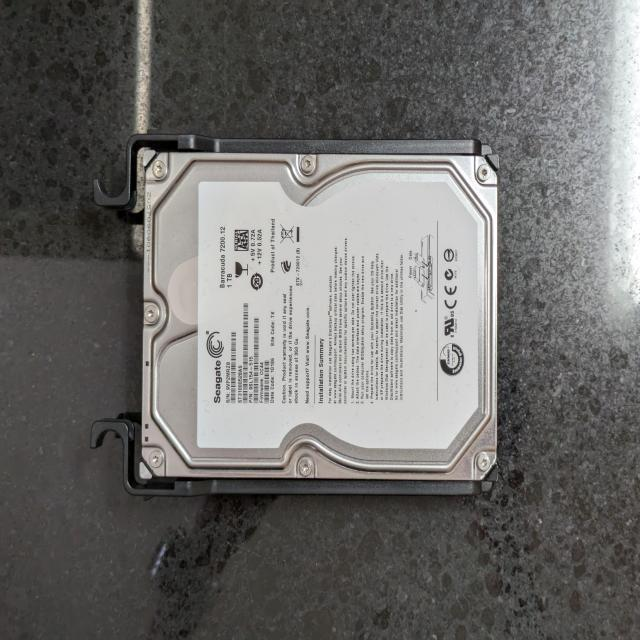DISK: (142, 151, 497, 482)
